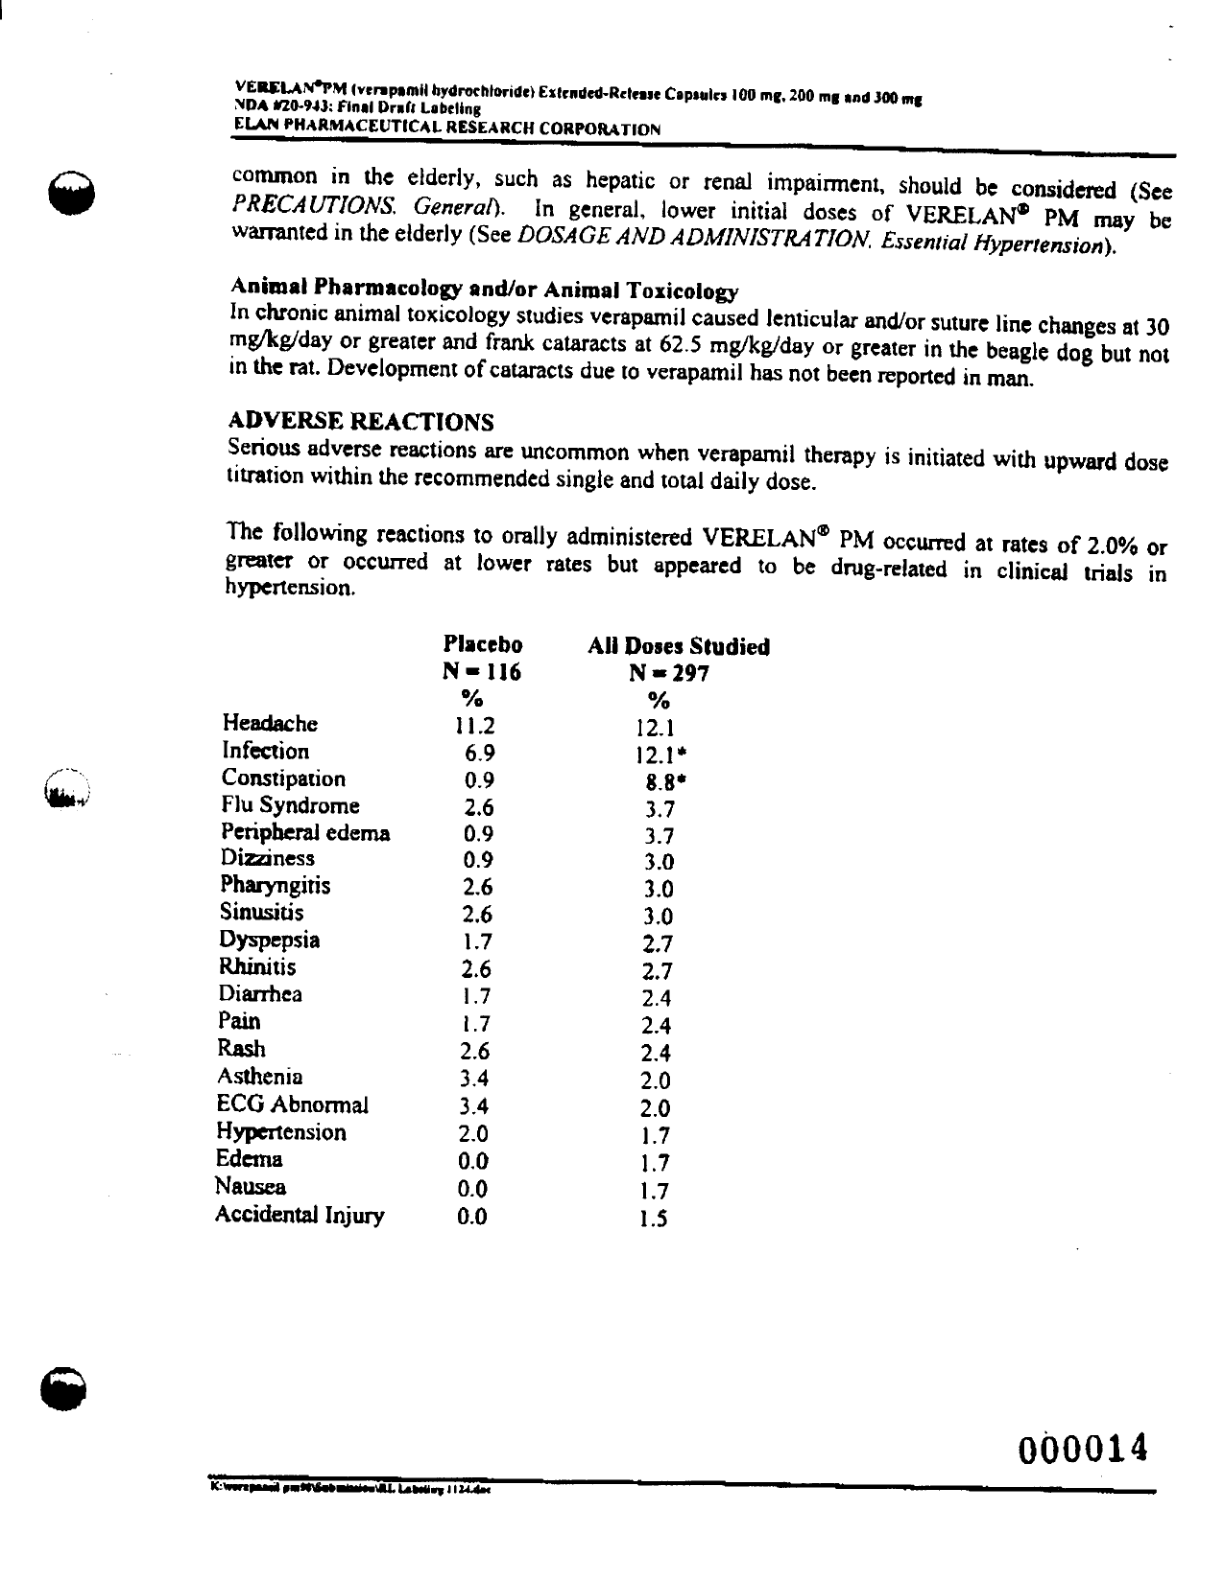nolines: (210, 628, 774, 1225)
